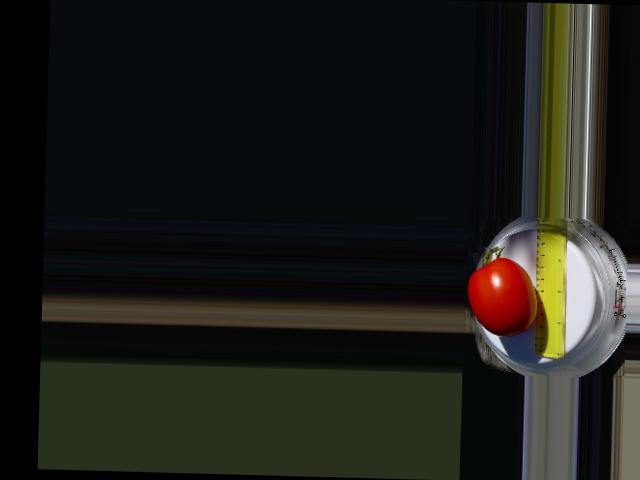tomato: (466, 256, 540, 336)
